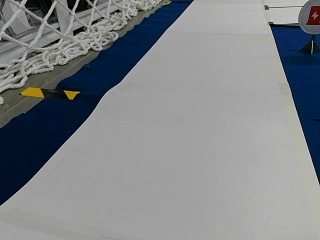battery: (298, 0, 319, 34)
